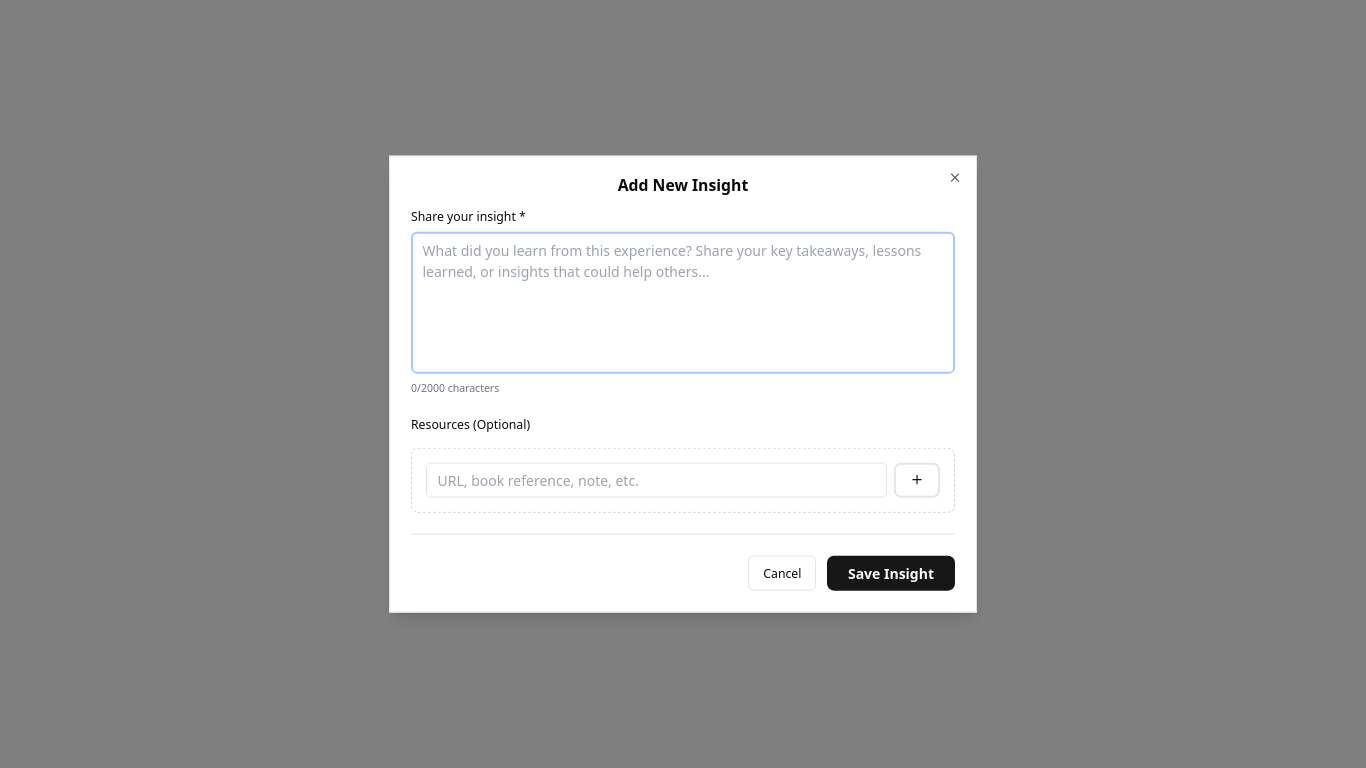
Test: InsightForm › Resources Management › should allow adding a resource
Type "https://test.com" into the field with placeholder "URL, book reference, note, etc.".
click(656, 480); type("https://test.com")  # box [426,462,887,497]
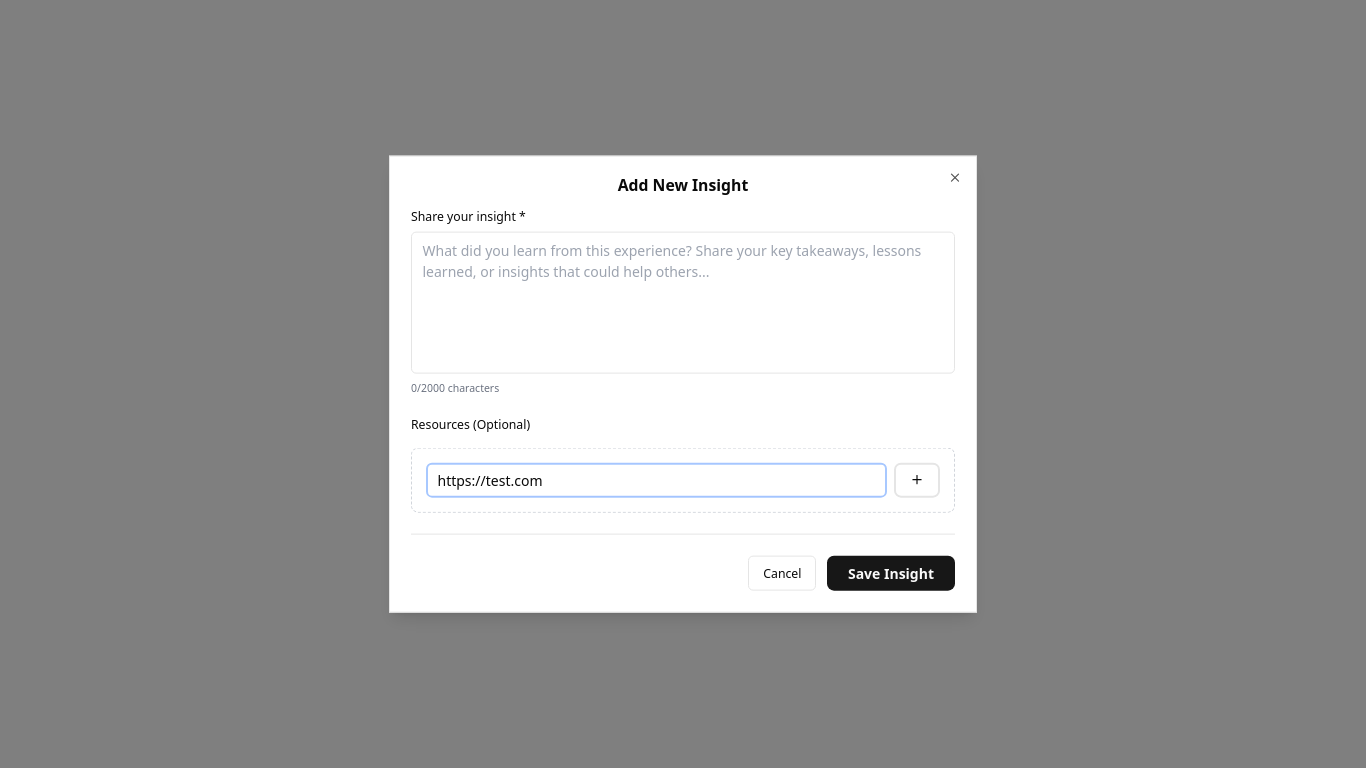
Click the 2nd button.
click(917, 480)  # box [894,462,940,497]
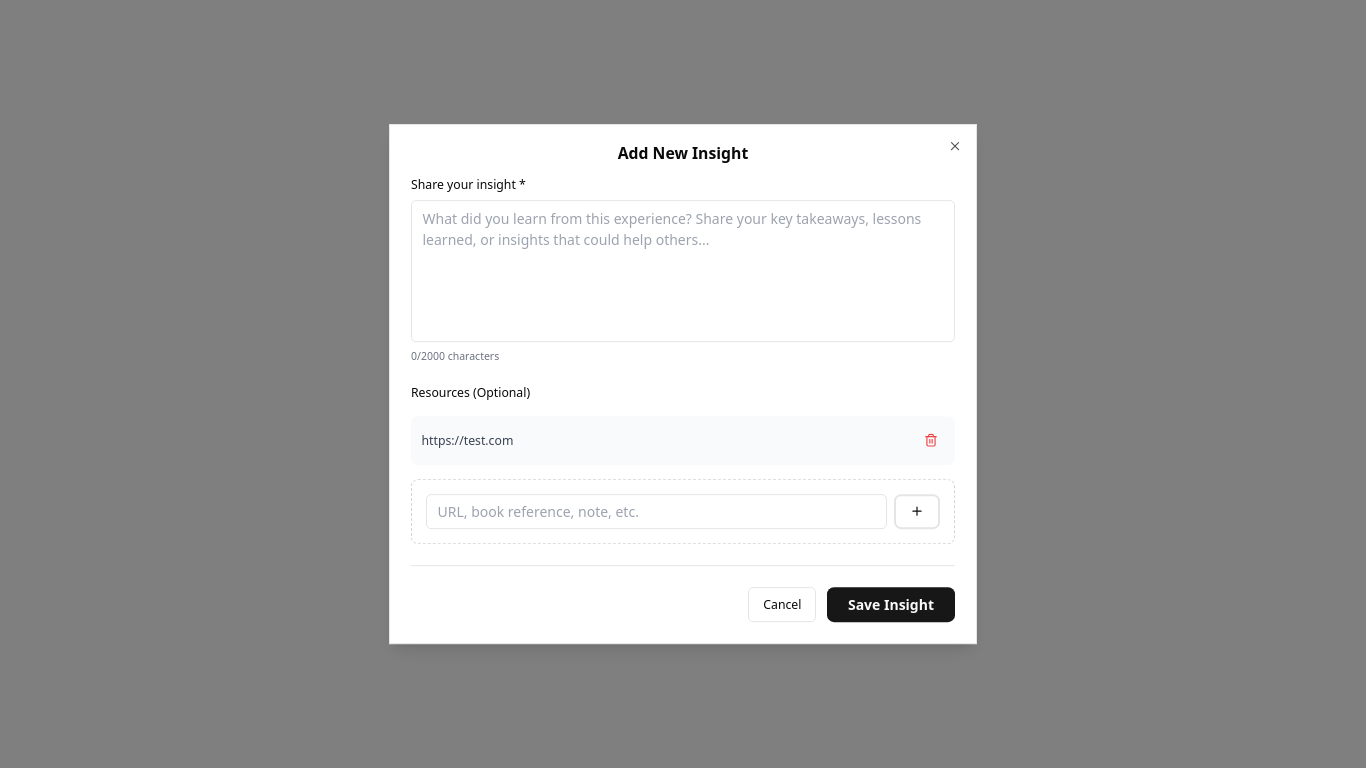
Expected: the text "https://test.com" is shown, [422,432,513,449]
Expected: the field with placeholder "URL, book reference, note, etc." is empty, [426,494,887,529]
